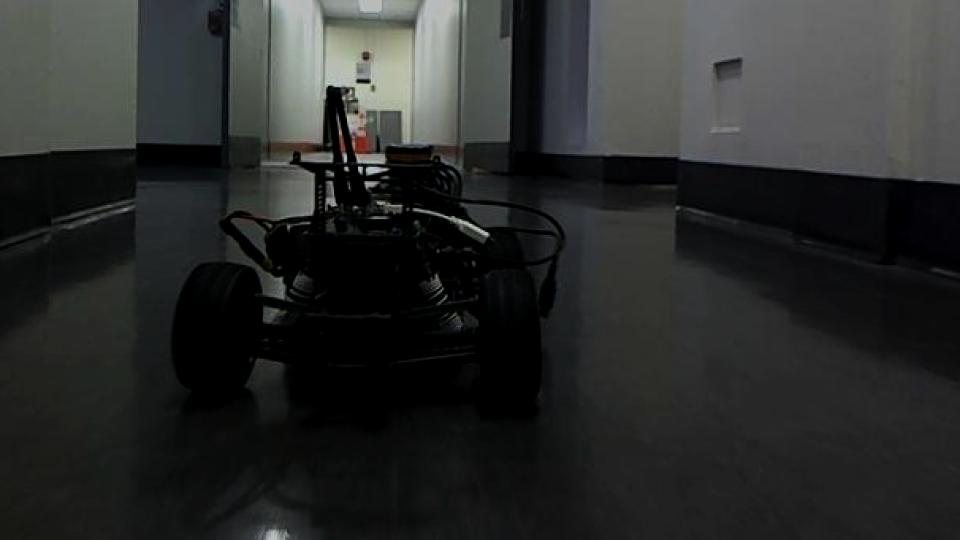car: (170, 82, 570, 412)
